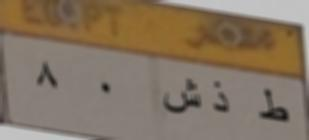0: (95, 72, 115, 98)
8: (32, 56, 63, 94)
Taa: (254, 85, 290, 131)
sheen: (160, 70, 203, 121)
zaal: (209, 78, 232, 118)
